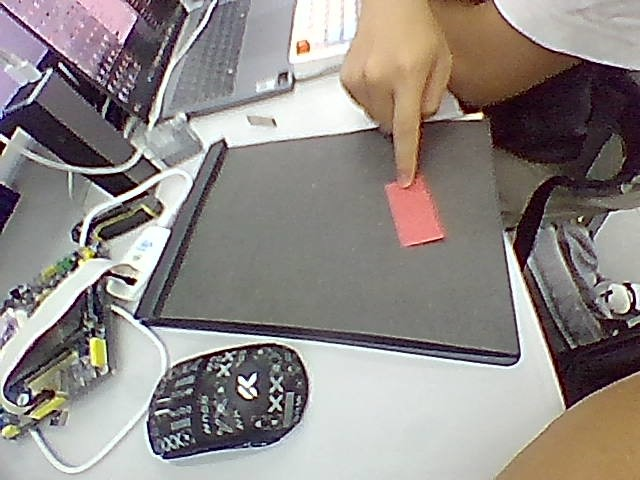card: (385, 175, 444, 246)
